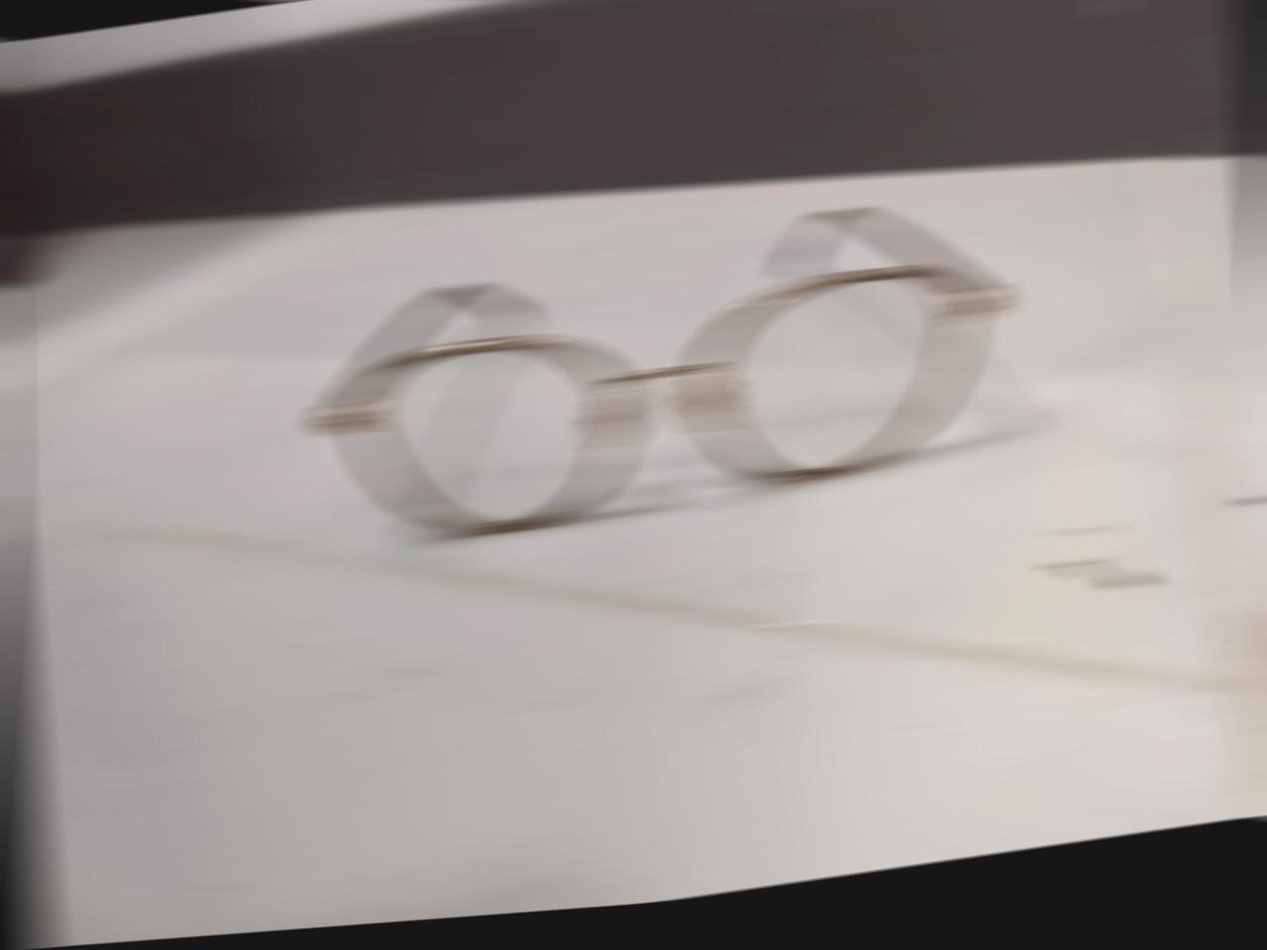glasses: (297, 168, 1029, 578)
